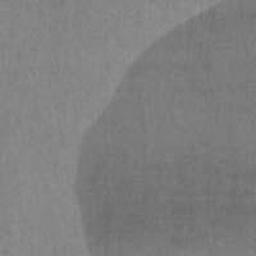Oil spot: (73, 0, 256, 256)
